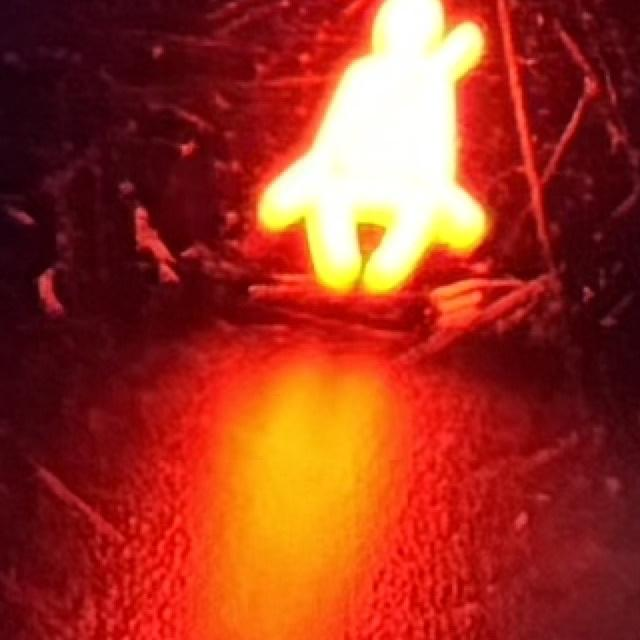Passenger Seatbelt Indicator: (252, 1, 493, 301)
